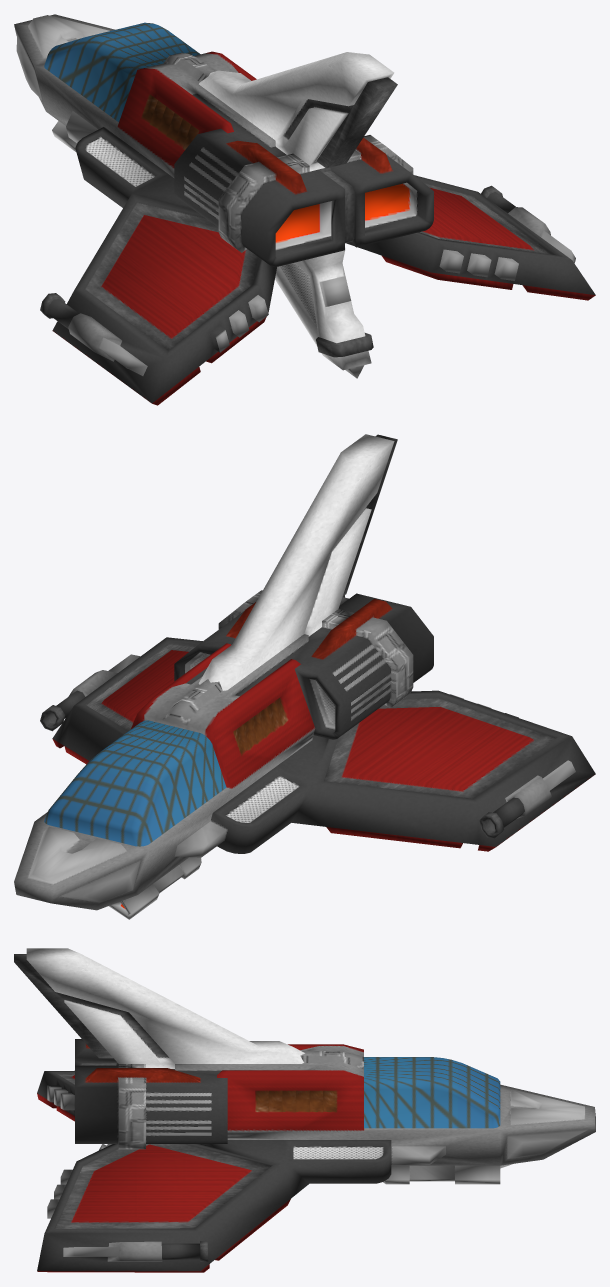
The model's file is Player.fbx.
3 views of the same model, one above another, from view 1: azimuth 30°, elevation 25°; view 2: azimuth 150°, elevation 25°; view 3: azimuth 270°, elevation 25° (orthographic). The views are drawn at different scales.
Parts seen in each view (by area): view 1: mesh; view 2: mesh; view 3: mesh.
Boxes of the visible parts, left/top/right/bottom form: mesh: left=14, top=14, right=595, bottom=405; mesh: left=14, top=434, right=595, bottom=919; mesh: left=14, top=948, right=595, bottom=1272.
Size of the model in its own units: 1.79 by 2.38 by 1.19.
Materials: 1 (1 with a texture image).
